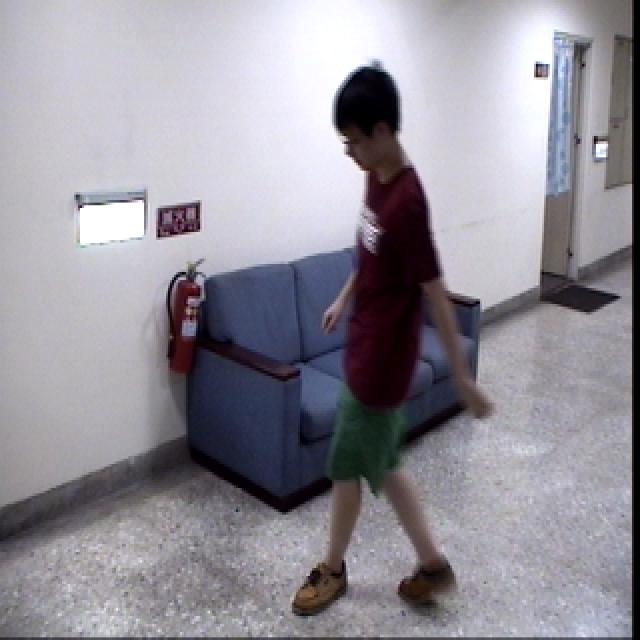stand: (294, 61, 498, 628)
